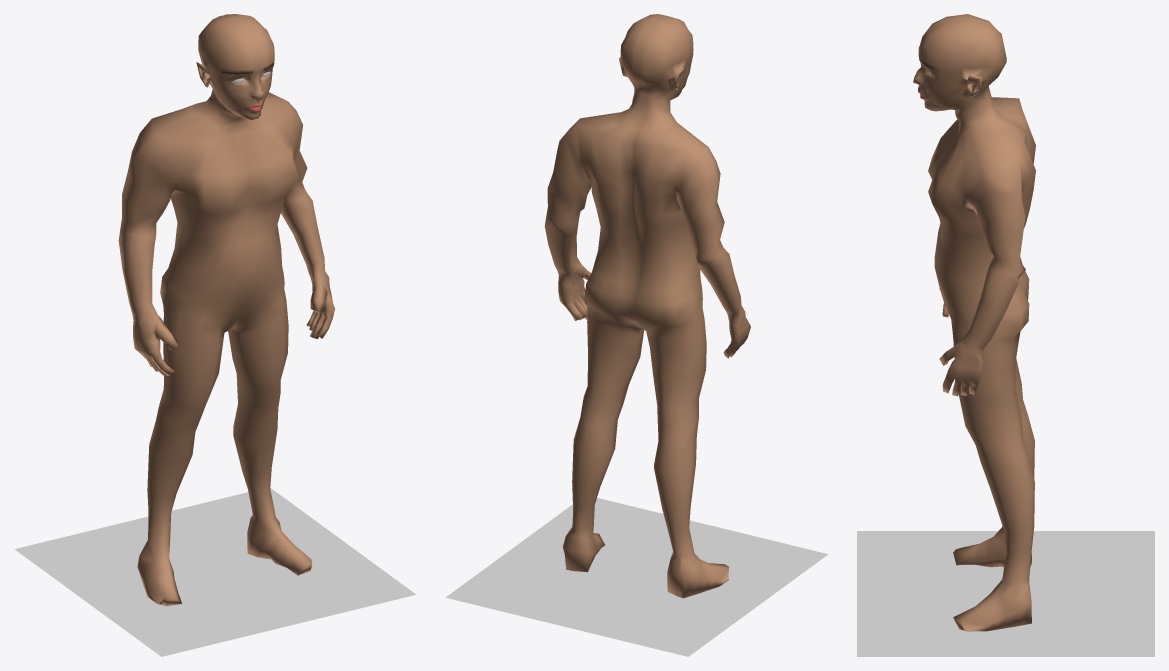
File: NoBone.fbx
The picture shows the model from 3 angles, left to right: view 1: azimuth 30°, elevation 25°; view 2: azimuth 150°, elevation 25°; view 3: azimuth 270°, elevation 25°; orthographic projection. The views are drawn at different scales.
Parts seen in each view (by area): view 1: body, Plane; view 2: body, Plane; view 3: body, Plane.
Part boxes in pixels (<box>): body: <box>118,14,335,606</box>; Plane: <box>14,488,416,656</box>; body: <box>544,14,750,598</box>; Plane: <box>446,498,828,656</box>; body: <box>913,14,1035,631</box>; Plane: <box>857,531,1154,656</box>.
Bounding box in the file's own units: 2.9 × 6.19 × 2.9.
